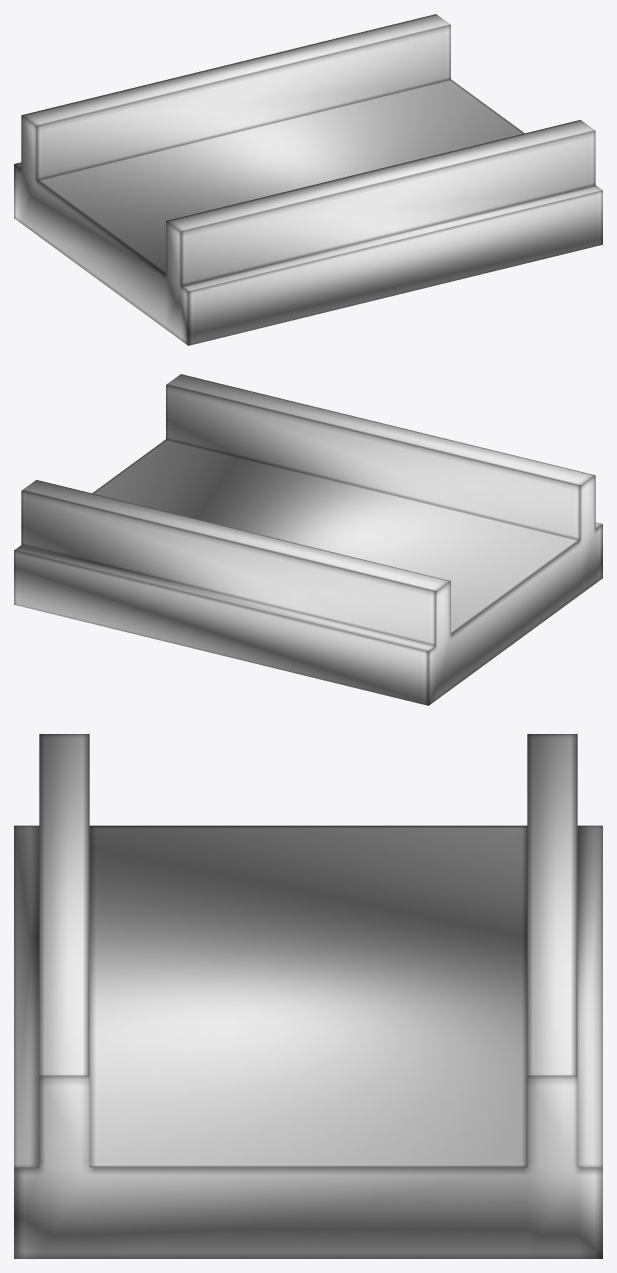
Rendered from Road-01.fbx.
3 views of the same model, one above another, from view 1: azimuth 30°, elevation 25°; view 2: azimuth 150°, elevation 25°; view 3: azimuth 270°, elevation 25° (orthographic). The views are drawn at different scales.
Parts seen in each view (by area): view 1: Road-01; view 2: Road-01; view 3: Road-01.
Part boxes in pixels (box(x1,y1,x2,y2)): Road-01: box(14, 14, 602, 345); Road-01: box(14, 374, 602, 705); Road-01: box(14, 734, 602, 1258).
Bounding box in the file's own units: 1 × 0.25 × 0.7285.
